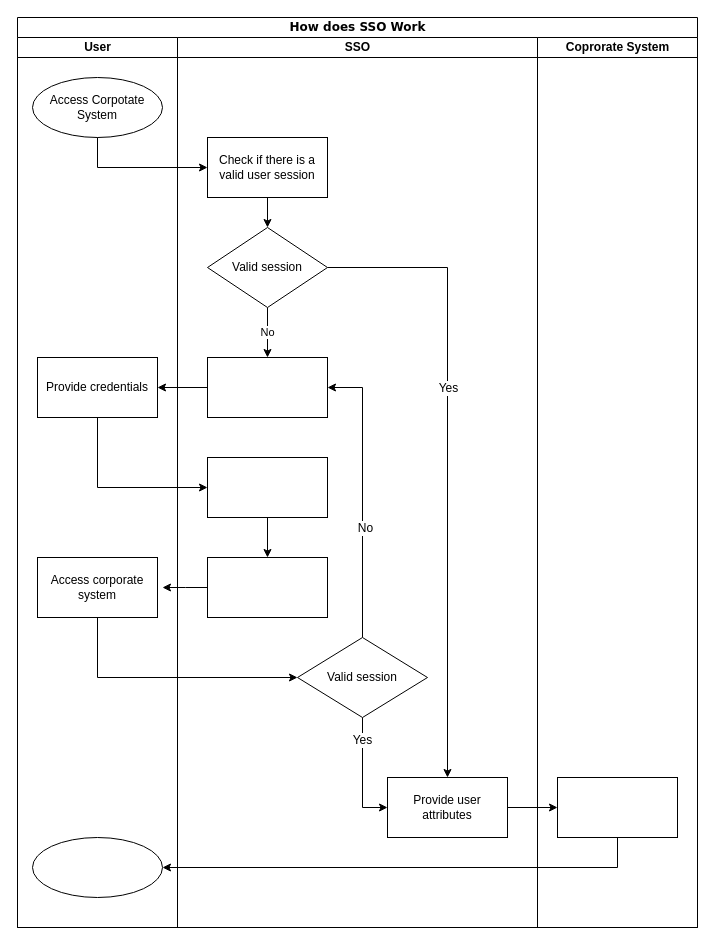
Some shapes in this 715 by 945 pixel diagram are drawn without their labels. Each missing label, with the centre of its shape:
Create session: point 267,487
Process request: point 617,807
Redirect to corporate system: point 267,587
Request credentials: point 267,387
Response: point 97,867
